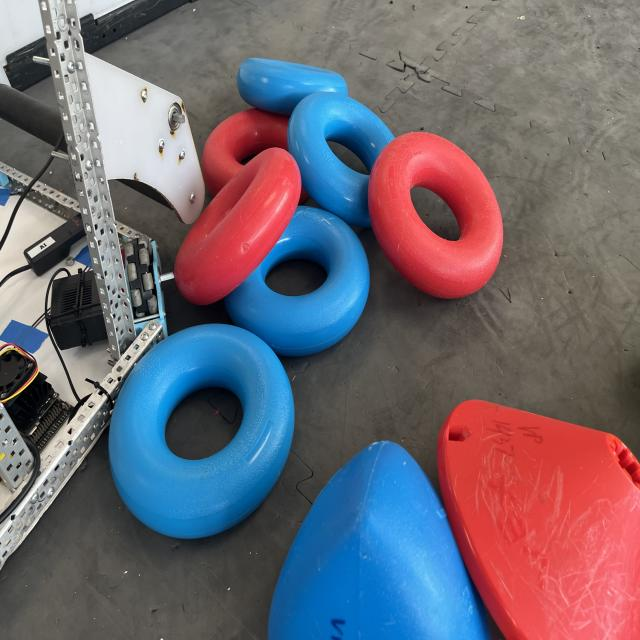Blue-Ring: (109, 325, 294, 538), (224, 207, 370, 357), (288, 92, 394, 227), (236, 58, 348, 115)
Red-Ring: (369, 132, 502, 298), (175, 147, 301, 305), (202, 108, 289, 197)
